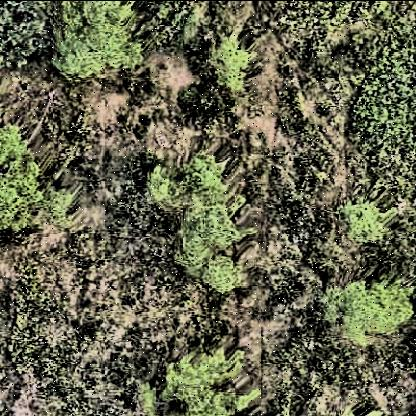tree-top: (149, 146, 249, 301), (1, 121, 76, 247), (48, 2, 144, 90), (325, 273, 415, 350), (162, 351, 261, 416), (341, 195, 389, 249), (207, 41, 253, 93)
